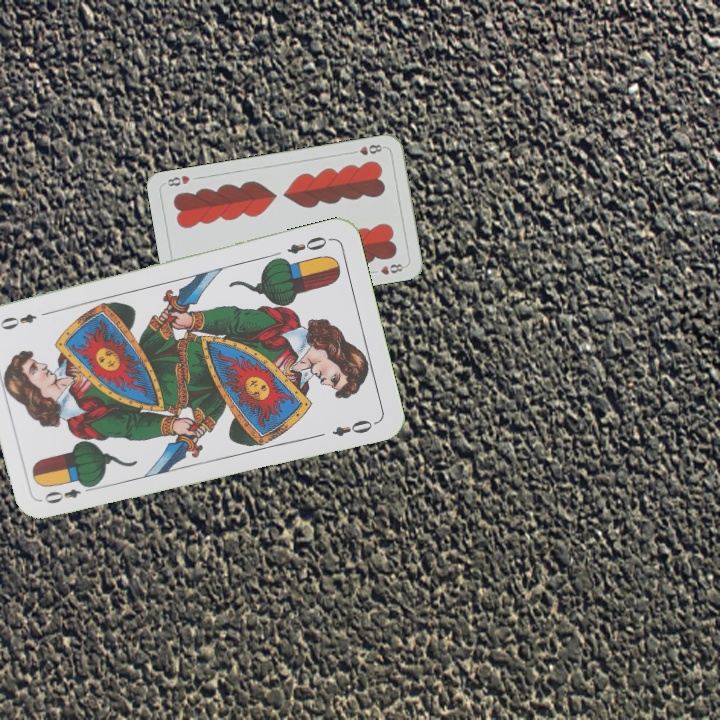EO: (40, 479, 97, 507), (283, 232, 334, 257)
H8: (347, 140, 387, 158)
